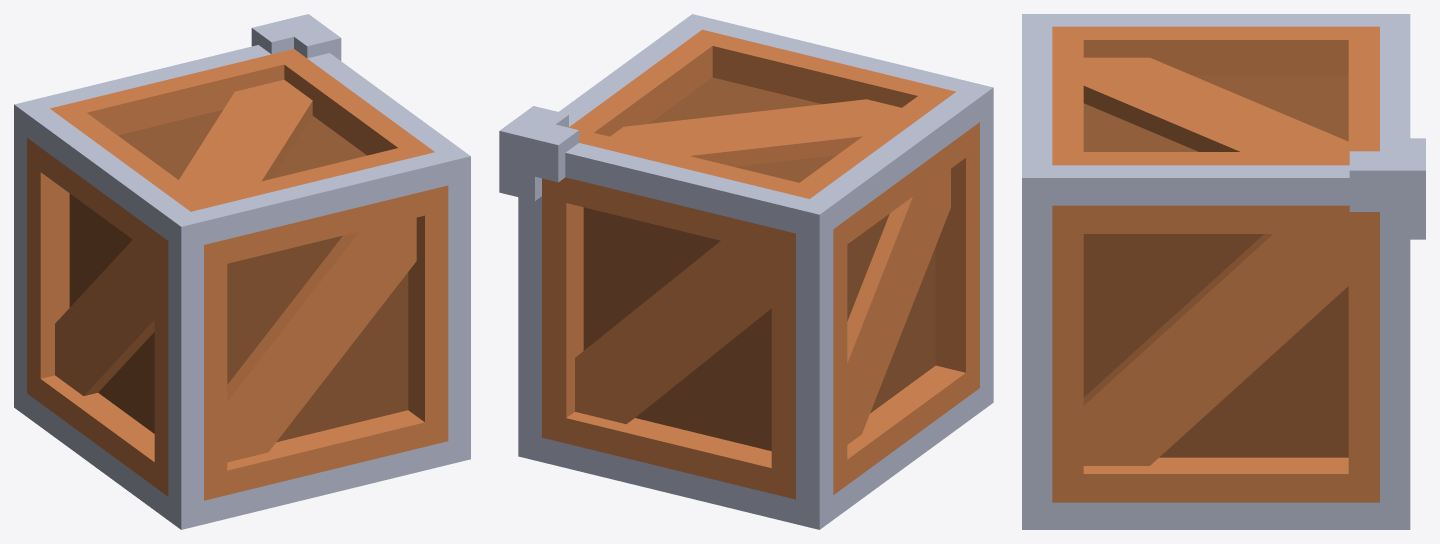
Rendered from d_kenney_caisse_ferree.glb.
The picture shows the model from 3 angles, left to right: view 1: azimuth 30°, elevation 25°; view 2: azimuth 150°, elevation 25°; view 3: azimuth 270°, elevation 25°; orthographic projection. The views are drawn at different scales.
Visible parts, largest first — view 1: d_kenney_caisse_ferree; view 2: d_kenney_caisse_ferree; view 3: d_kenney_caisse_ferree.
Part boxes in pixels (x1,y1,x2,y2): d_kenney_caisse_ferree: [14, 14, 470, 529]; d_kenney_caisse_ferree: [499, 14, 993, 529]; d_kenney_caisse_ferree: [1022, 14, 1425, 529].
Bounding box in the file's own units: 0.52 × 0.52 × 0.52.
1 material, 1 textured.
